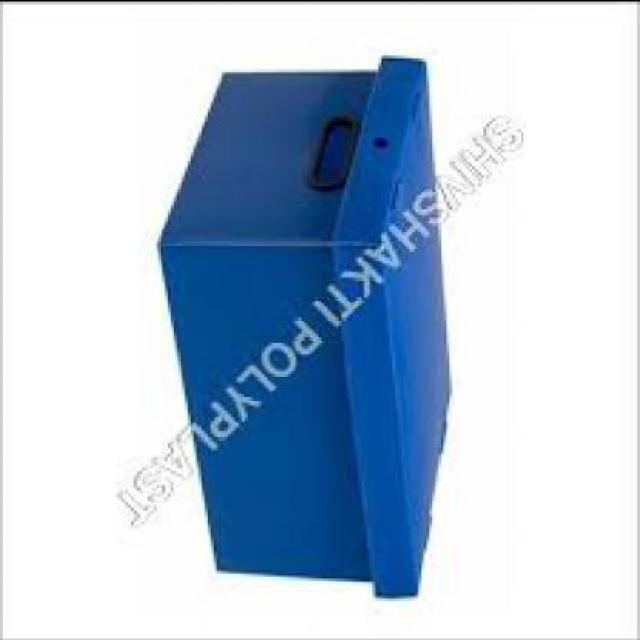CARDBOARD: (159, 54, 455, 595)
